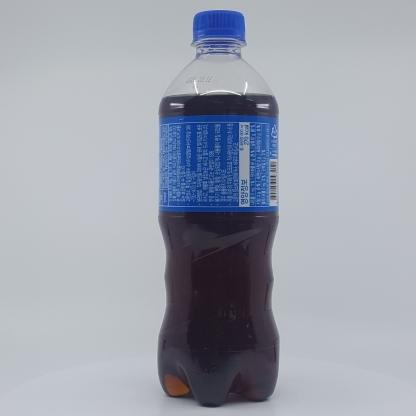------600ML: (157, 10, 280, 408)
